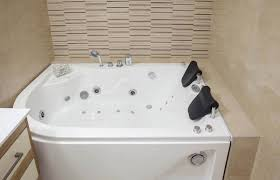bathub: (14, 53, 245, 180)
